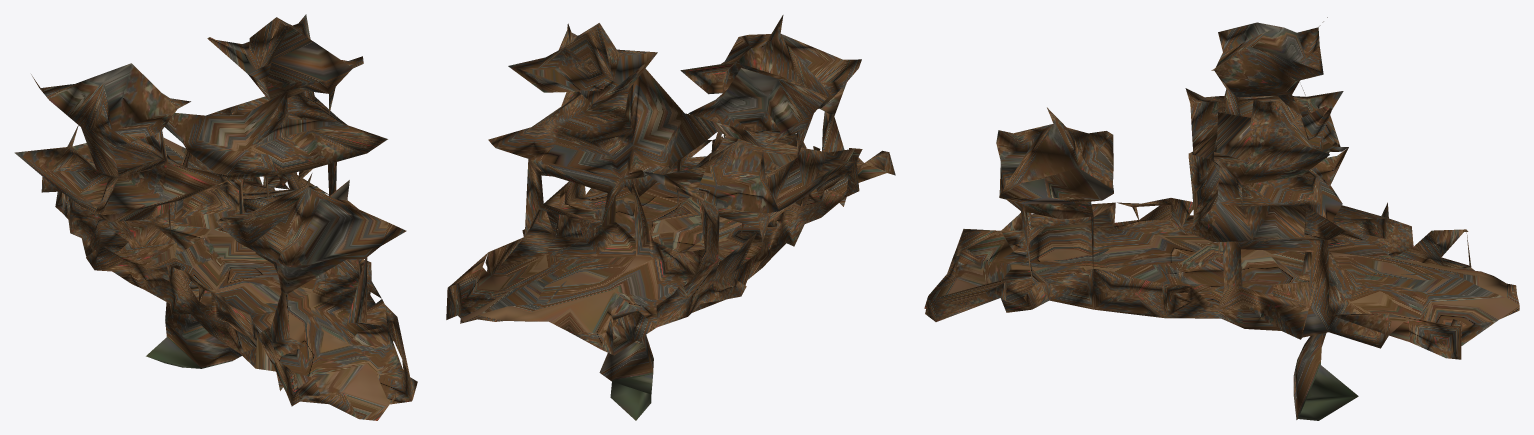
File: h_bridge_far.glb
The picture shows the model from 3 angles, left to right: view 1: azimuth 30°, elevation 25°; view 2: azimuth 150°, elevation 25°; view 3: azimuth 270°, elevation 25°; orthographic projection. The views are drawn at different scales.
Visible parts, largest first — view 1: tripo_node_7a304e37-73c2-4838-9290-74718afad4ad; view 2: tripo_node_7a304e37-73c2-4838-9290-74718afad4ad; view 3: tripo_node_7a304e37-73c2-4838-9290-74718afad4ad.
Boxes of the visible parts, left/top/right/bottom form: tripo_node_7a304e37-73c2-4838-9290-74718afad4ad: left=14, top=14, right=417, bottom=420; tripo_node_7a304e37-73c2-4838-9290-74718afad4ad: left=446, top=15, right=895, bottom=420; tripo_node_7a304e37-73c2-4838-9290-74718afad4ad: left=924, top=17, right=1519, bottom=420.
Size of the model in its own units: 0.551 by 0.6175 by 0.9723.
Materials: 1 (1 with a texture image).
